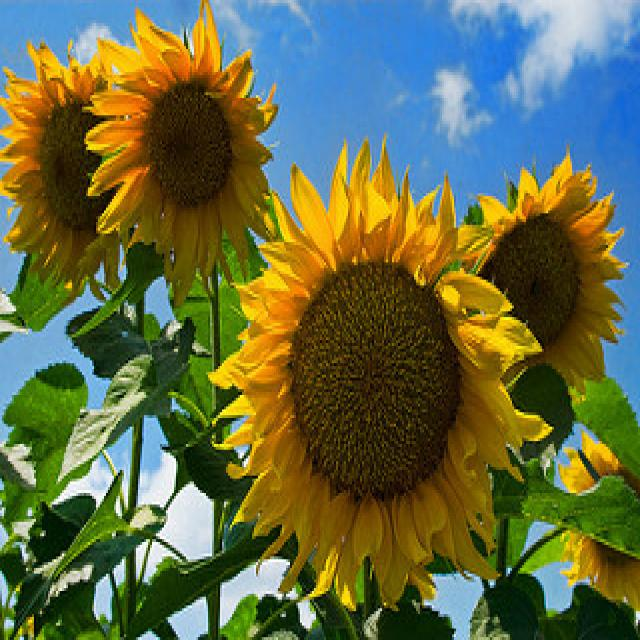sunflower: (203, 115, 551, 614), (80, 0, 282, 306), (444, 134, 632, 405), (0, 27, 136, 296)
